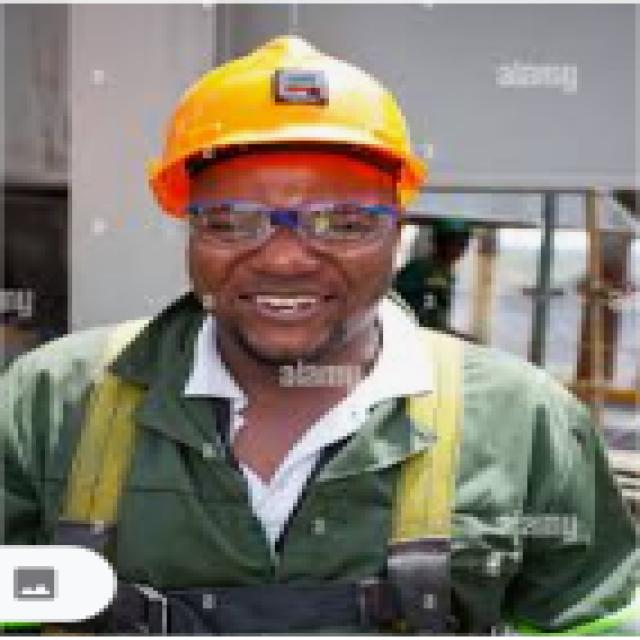glasses: (181, 184, 427, 261)
